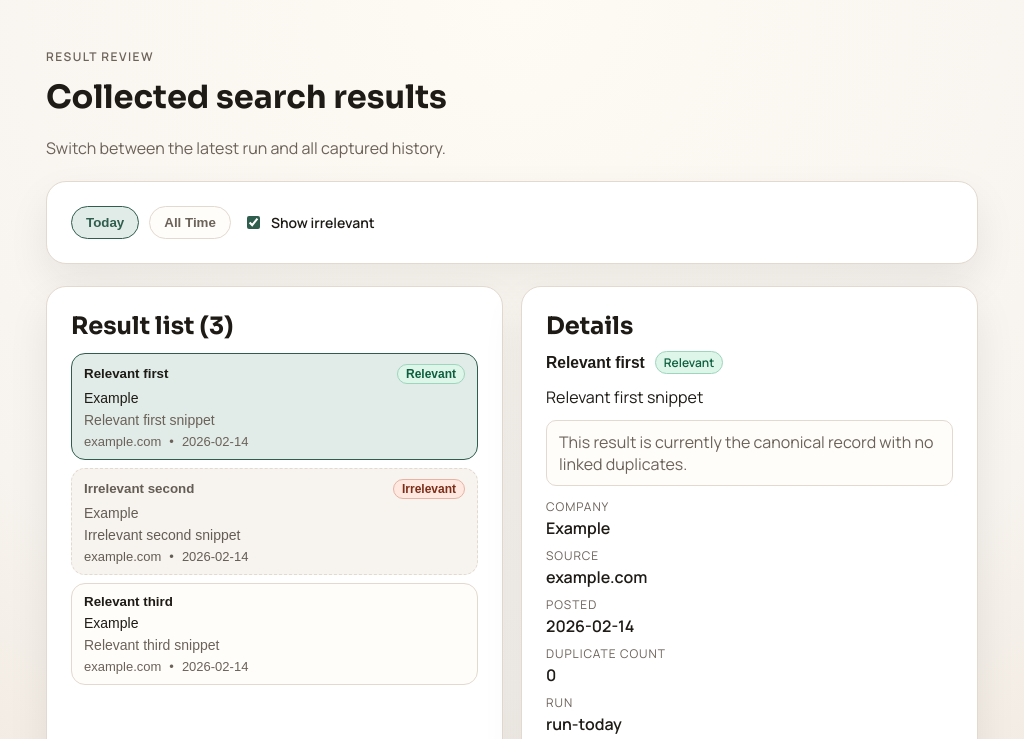
Scenario: ResultsPage › falls back to the next visible result when selected irrelevant is hidden
Click the button "Irrelevant second" at (139, 488), box [72, 469, 477, 574]
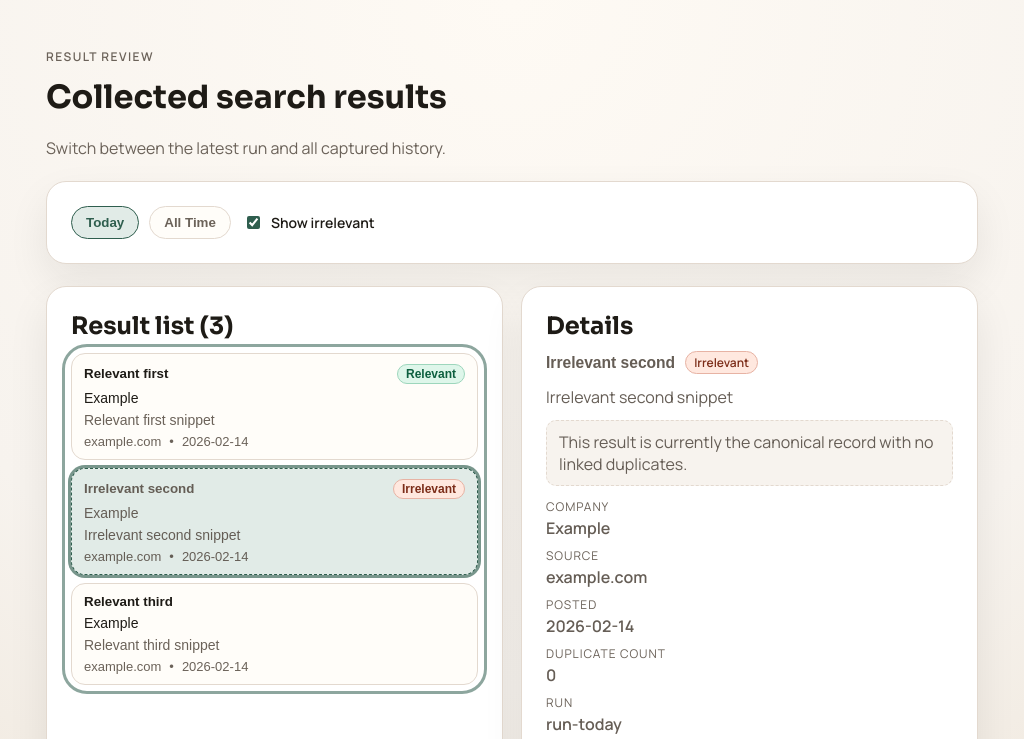
Expected: the heading "Irrelevant second" is shown, [546, 354, 675, 372]
Click the checkbox labelled "Show irrelevant" at (253, 222), box [247, 216, 260, 229]
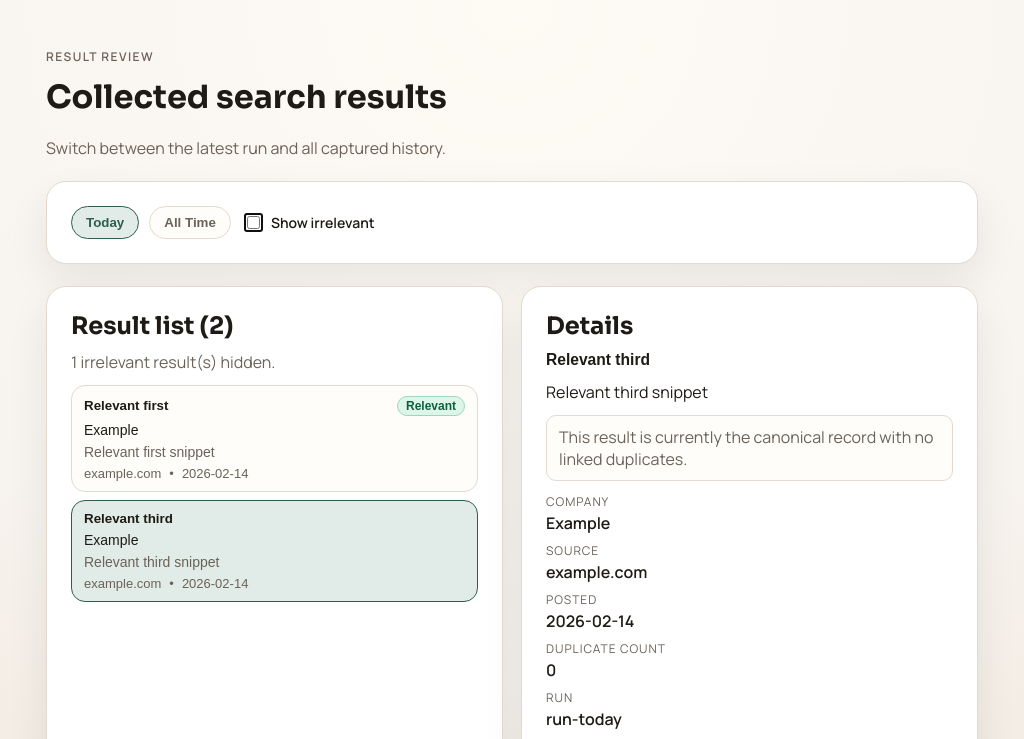
Expected: the button "Irrelevant second" is gone
Expected: the heading "Relevant third" is shown, [546, 351, 650, 369]
